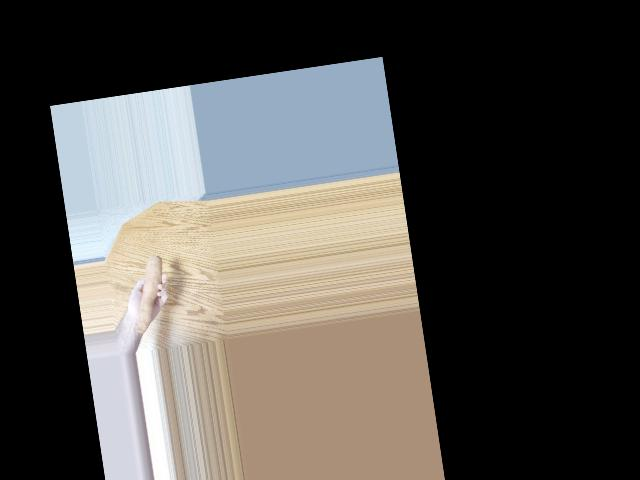sweet_potato: (126, 253, 172, 332)
